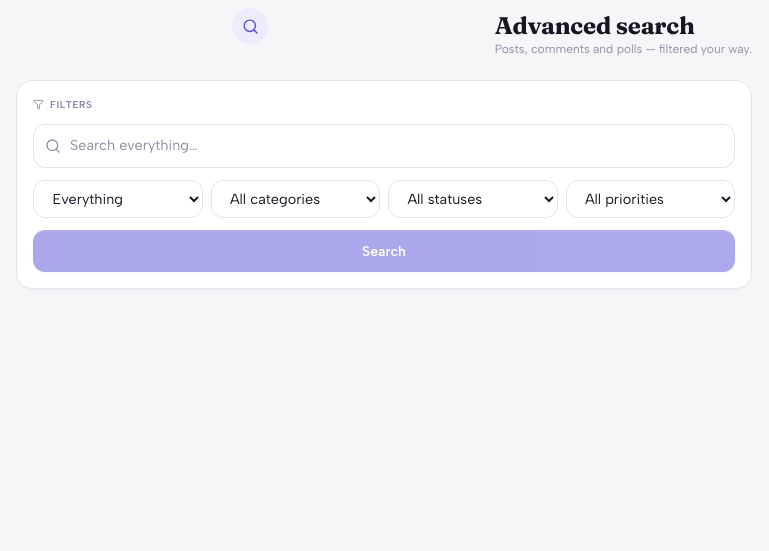
Search — query flow › renders comment results linked to the parent post
The image size is (769, 551).
Type "room" into the field labelled "Search everything…".
click(384, 146); type("room")  # box [33, 124, 735, 168]
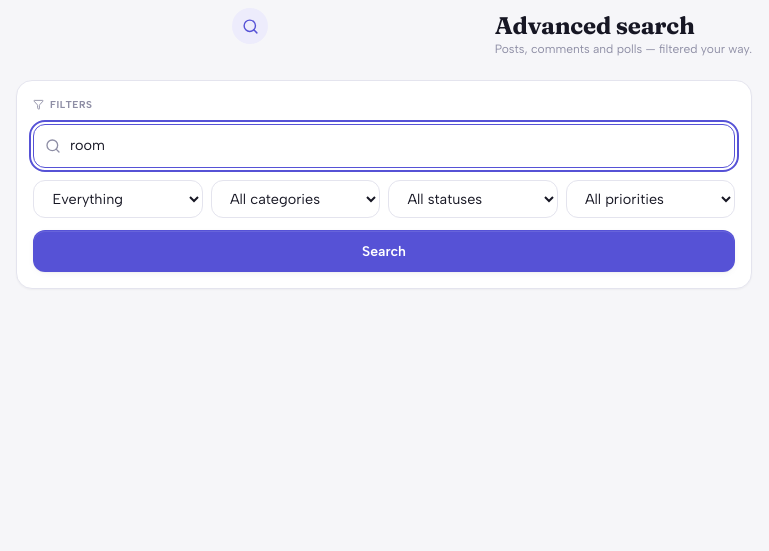
Press Enter
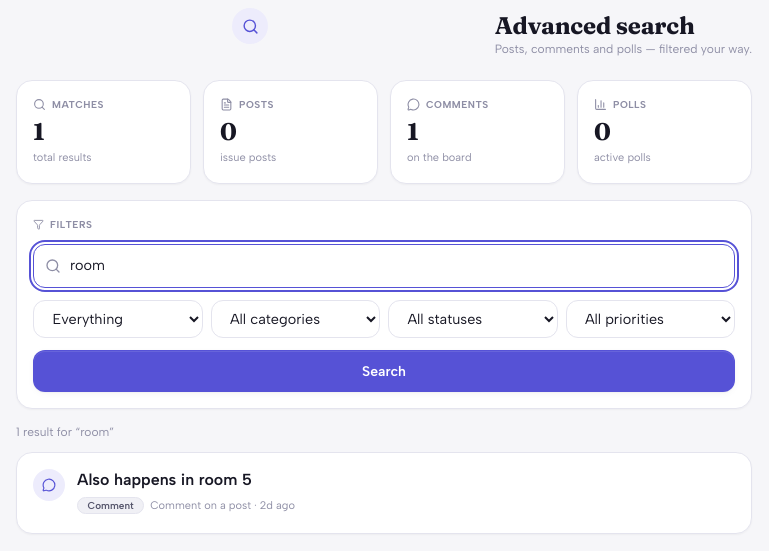
Check: the text "Also happens in room 5" is shown, box [77, 470, 252, 489]
